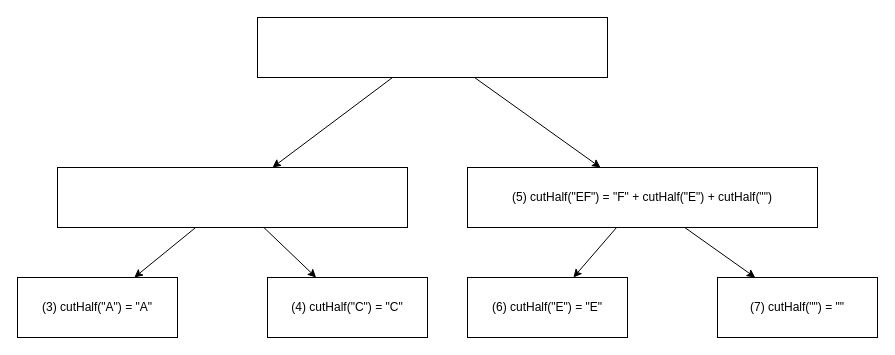
Some shapes in this 895 by 355 pixel diagram are drawn without their labels. Each missing label, with the centre of its shape:
(1) cutHalf("ABCDEF") = "D" + cutHalf("ABC") + cutHalf("EF"): point (432, 47)
(2) cutHalf("ABC") = "B" + cutHalf("A") + cutHalf("C"): point (232, 197)
